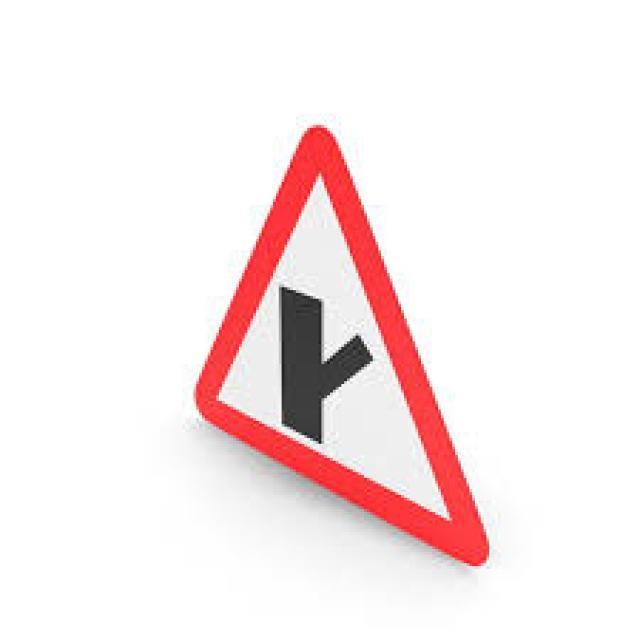y intersection: (184, 120, 493, 574)
